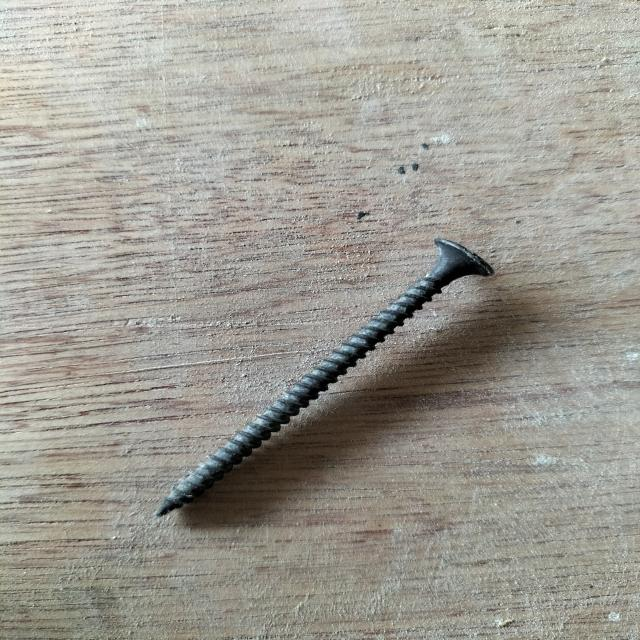screw: (155, 238, 495, 516)
